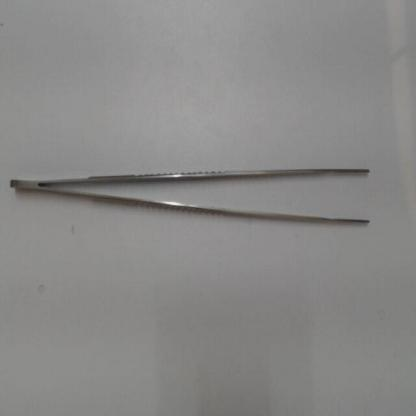DeBakey Dissector: (7, 157, 384, 235)
